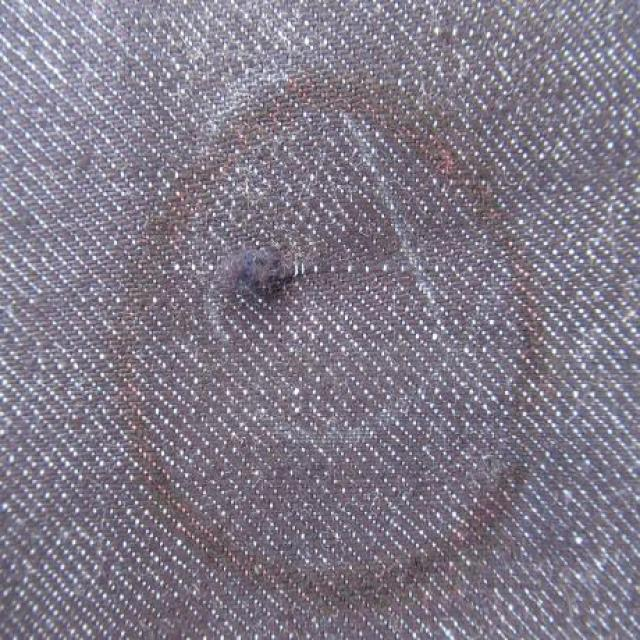Thread_other: (182, 227, 462, 345)
